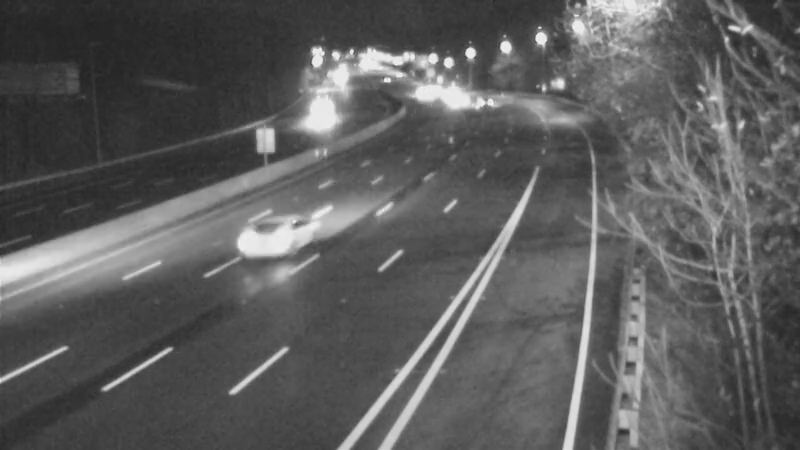vehicle: (226, 192, 306, 272), (429, 80, 479, 130), (457, 77, 507, 127), (293, 93, 343, 143)
